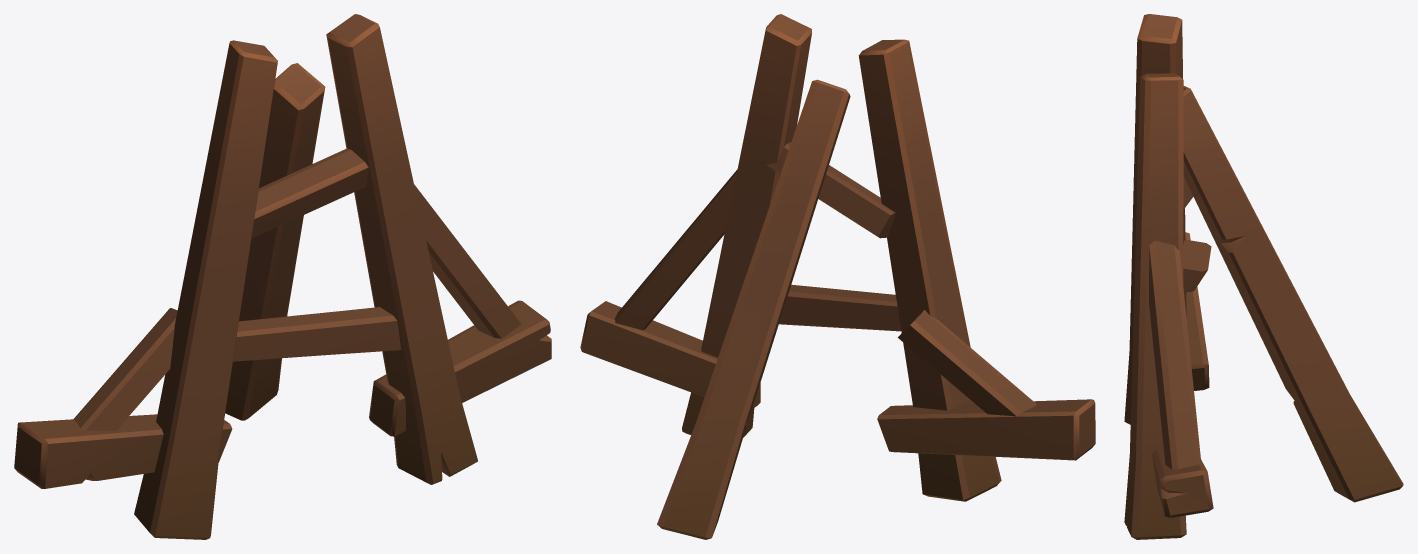
The model's file is Dart_Stand.fbx.
3 renders of one model, left to right at view 1: azimuth 30°, elevation 25°; view 2: azimuth 150°, elevation 25°; view 3: azimuth 270°, elevation 25°, orthographic. The views are drawn at different scales.
Visible parts, largest first — view 1: Dart_Stand; view 2: Dart_Stand; view 3: Dart_Stand.
Part boxes in pixels (x1,y1,x2,y2): Dart_Stand: (14,14,551,539); Dart_Stand: (580,14,1095,539); Dart_Stand: (1124,14,1403,539).
Bounding box in the file's own units: 539 × 459 × 268.
